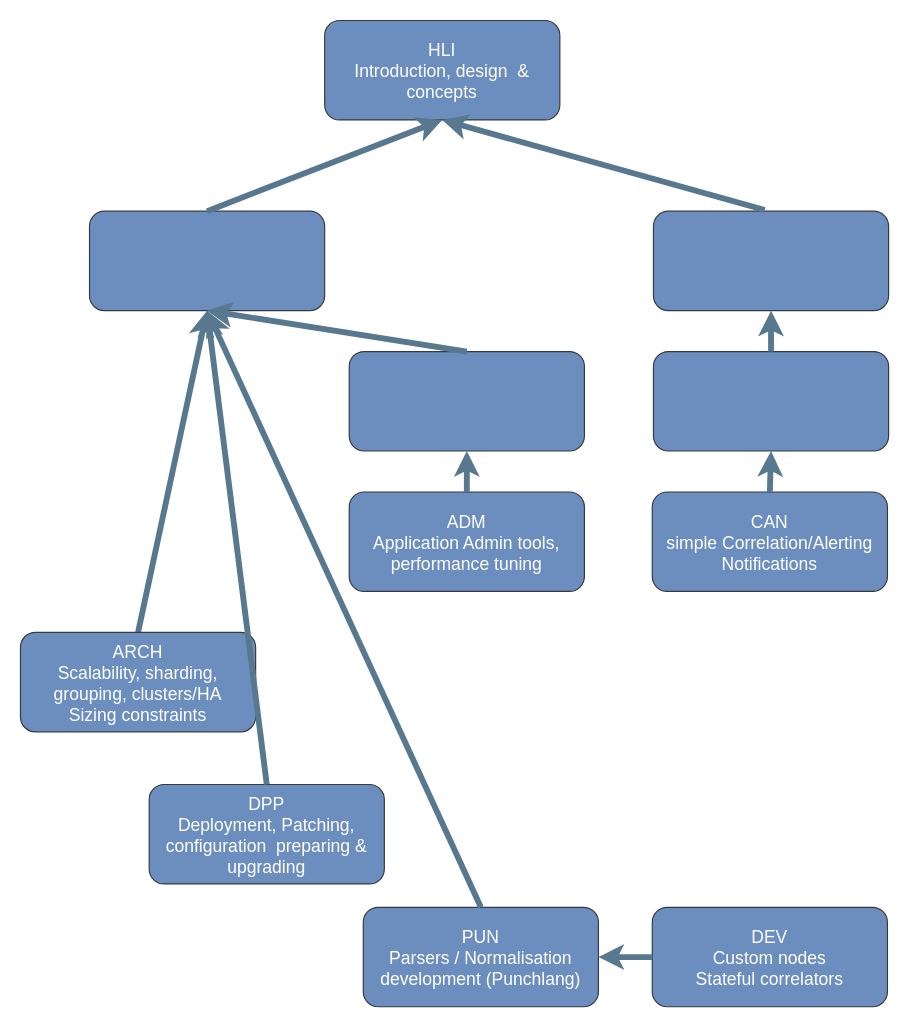
Some shapes in this 909 by 1027 pixel diagram are drawn without their labels. The centre of each missing label's shape, as x and y in pixels:
"CHA Channels/Application structure & operation" belongs at point (206, 260).
"IKQ Indexing, Kibana, Queries Mappings, Aggregations" belongs at point (770, 260).
"MON Metrics, Monitoring Platform, Channels, Solution" belongs at point (466, 400).
"TIDE Threat-Intel Data model & Enrichments" belongs at point (770, 400).
